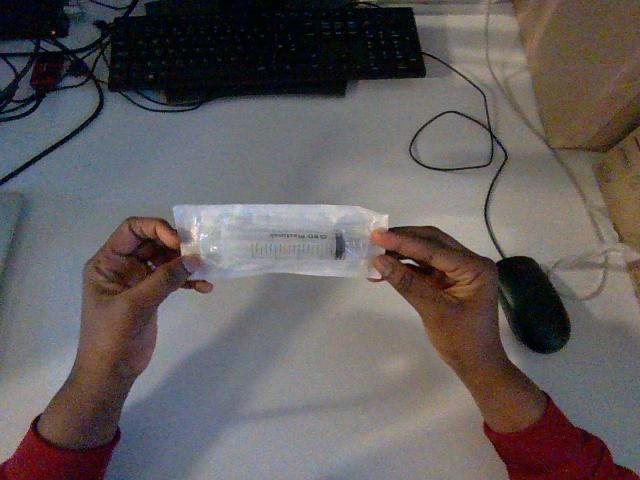syringe: (173, 204, 387, 280)
